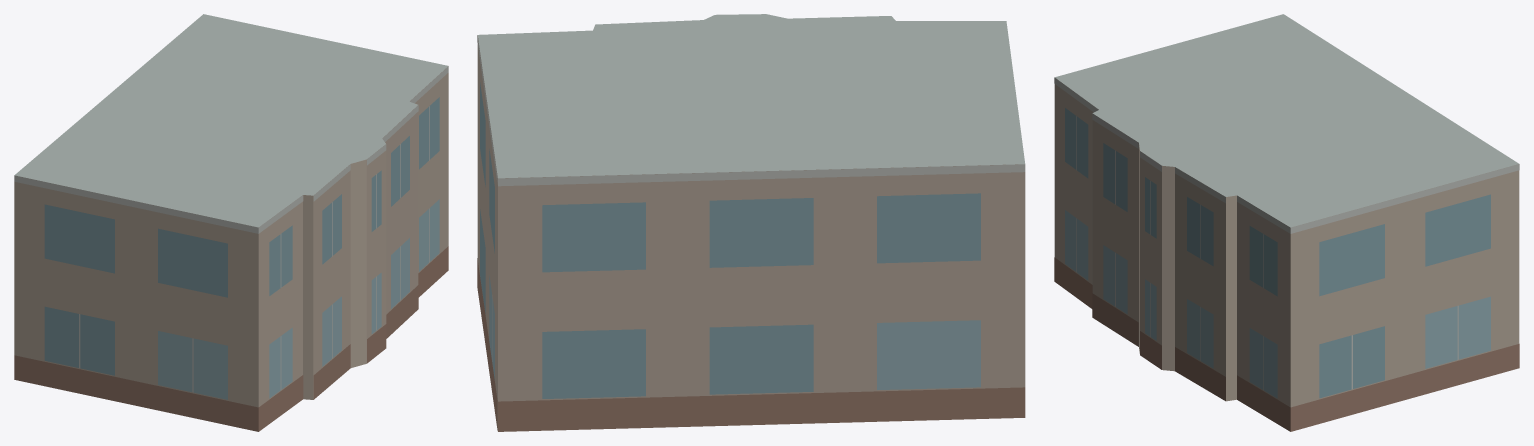
File: survey-upis-33006628.glb
3 renders of one model, left to right at view 1: azimuth 30°, elevation 25°; view 2: azimuth 150°, elevation 25°; view 3: azimuth 270°, elevation 25°, orthographic. The views are drawn at different scales.
Visible parts, largest first — view 1: survey-upis-33006628.tmp; view 2: survey-upis-33006628.tmp; view 3: survey-upis-33006628.tmp.
Part boxes in pixels (x1=…): survey-upis-33006628.tmp: x1=14, y1=14, x2=448, y2=431; survey-upis-33006628.tmp: x1=477, y1=14, x2=1025, y2=431; survey-upis-33006628.tmp: x1=1054, y1=14, x2=1519, y2=431.
Size of the model in its own units: 17.5 by 7.8 by 16.1.
